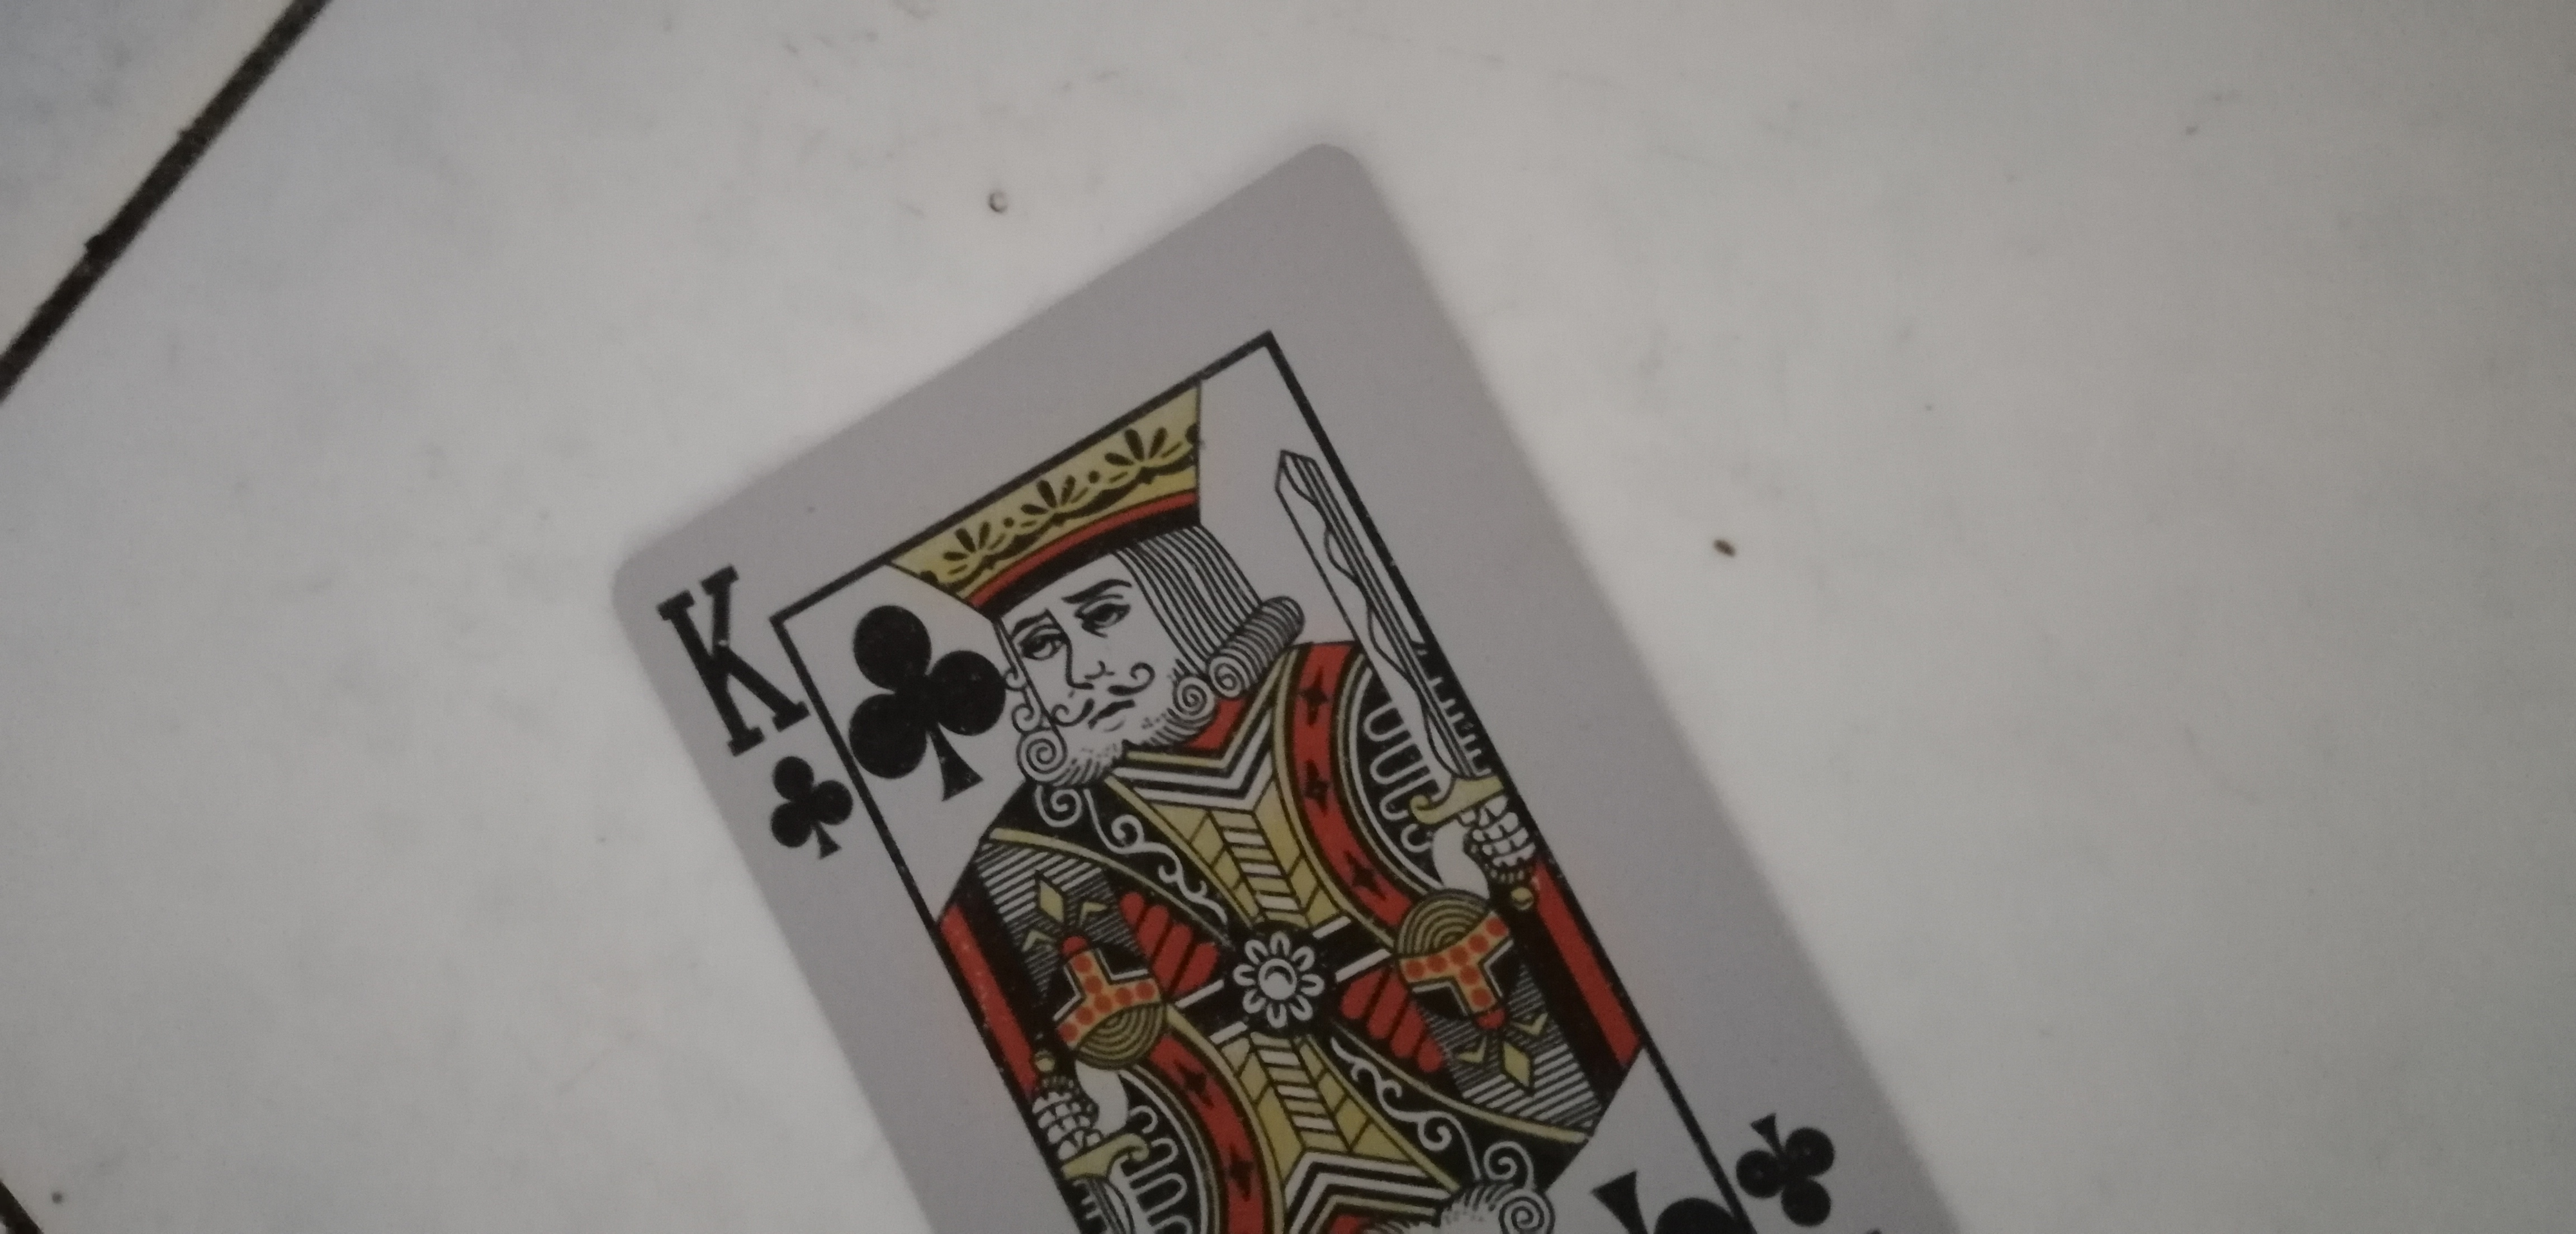king: (610, 163, 1981, 1234)
